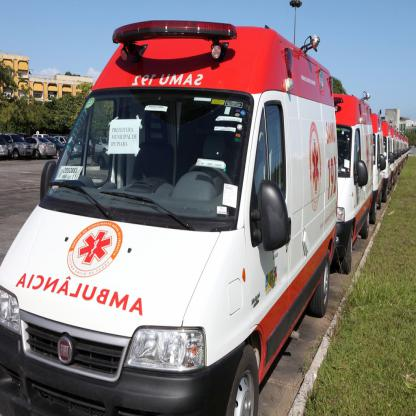Ambulance: (0, 0, 341, 416), (333, 89, 374, 274), (372, 108, 386, 223), (382, 118, 392, 195), (391, 124, 397, 186)
